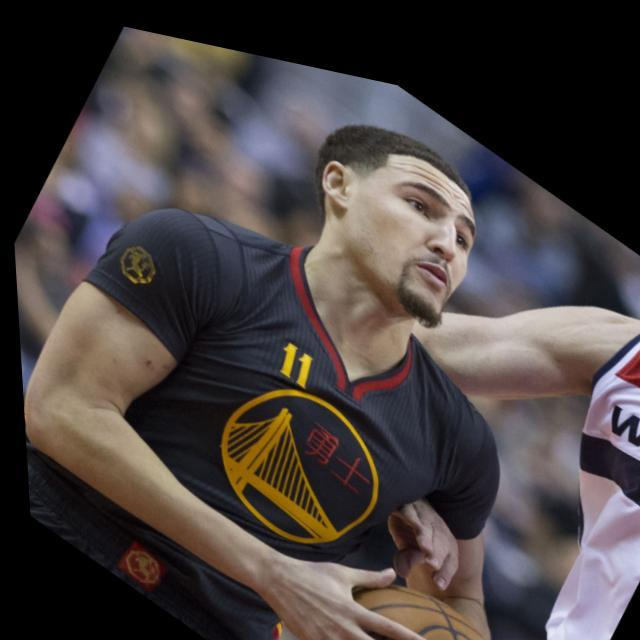Nonhelmet: (312, 120, 481, 329)
